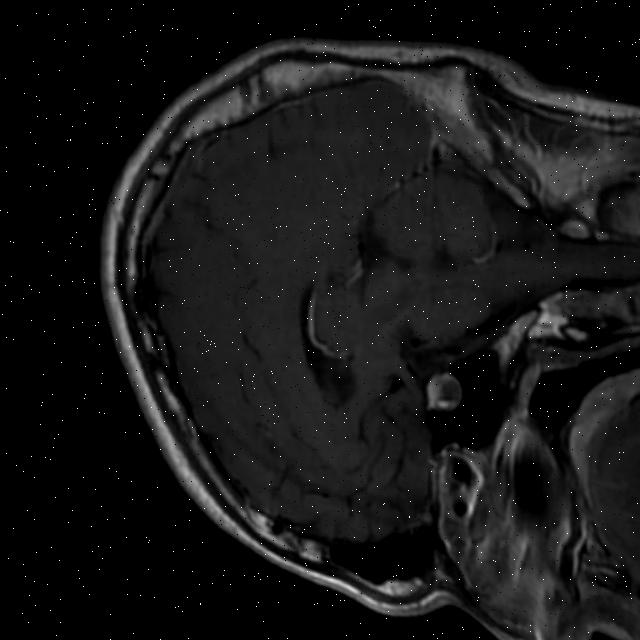Pituitary: (421, 366, 466, 415)
